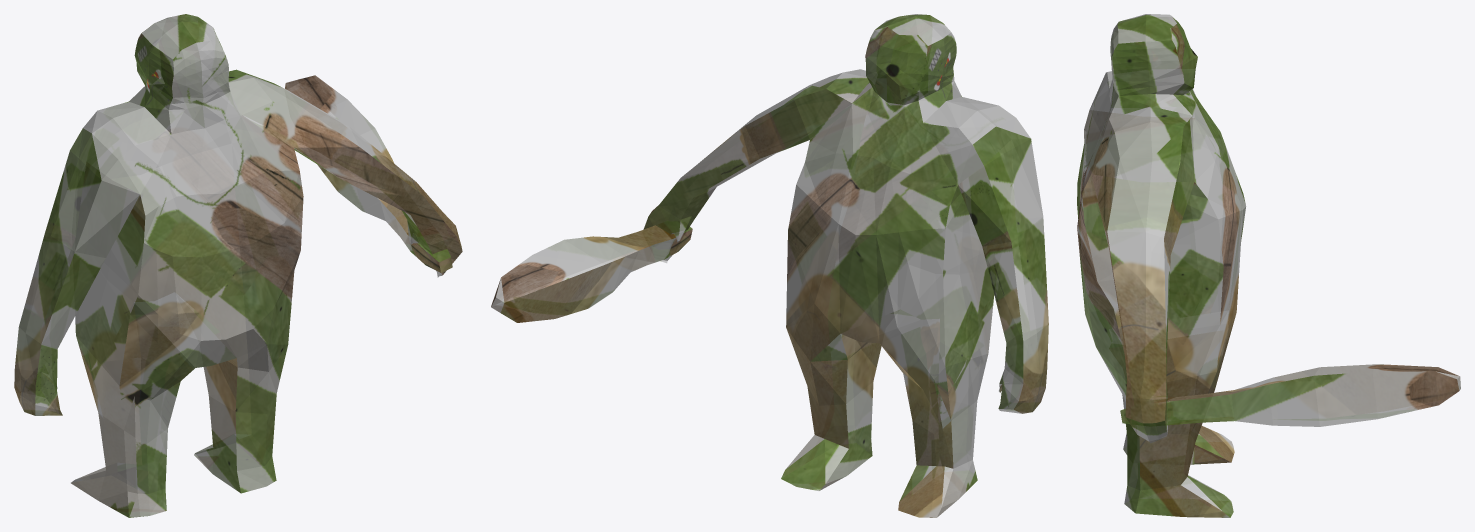
Rendered from Enemigo217.obj.
The picture shows the model from 3 angles, left to right: view 1: azimuth 30°, elevation 25°; view 2: azimuth 150°, elevation 25°; view 3: azimuth 270°, elevation 25°; orthographic projection. The views are drawn at different scales.
Visible parts, largest first — view 1: Cube; view 2: Cube; view 3: Cube.
Part boxes in pixels (<box>): Cube: <box>14,14,462,517</box>; Cube: <box>491,14,1048,517</box>; Cube: <box>1077,14,1460,517</box>.
Size of the model in its own units: 2.6 by 2.71 by 2.04.
1 material, 1 textured.
